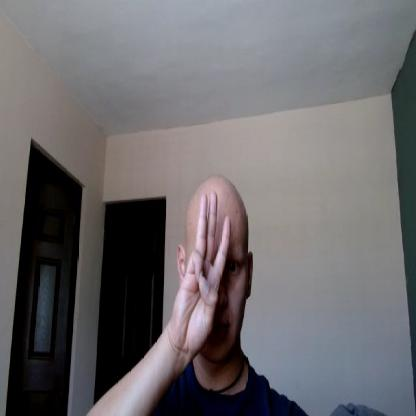W: (172, 191, 232, 351)
